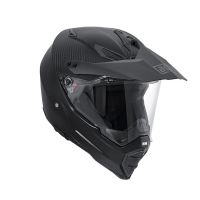with_helmet: (38, 21, 190, 180)
